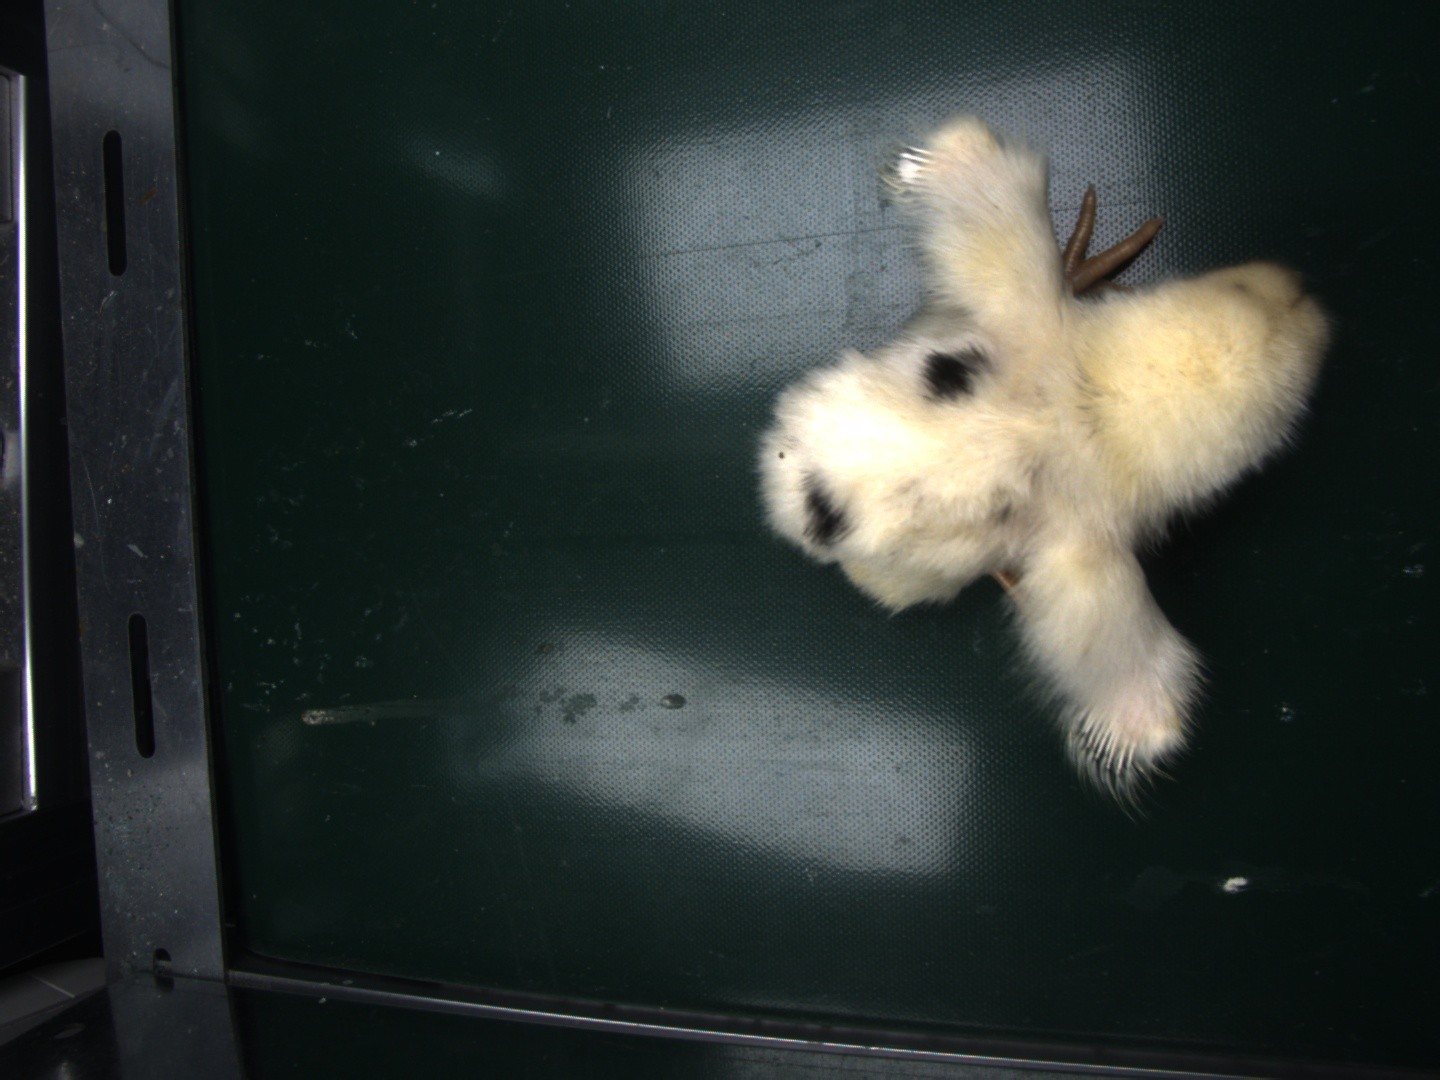male: (1071, 708, 1150, 779)
